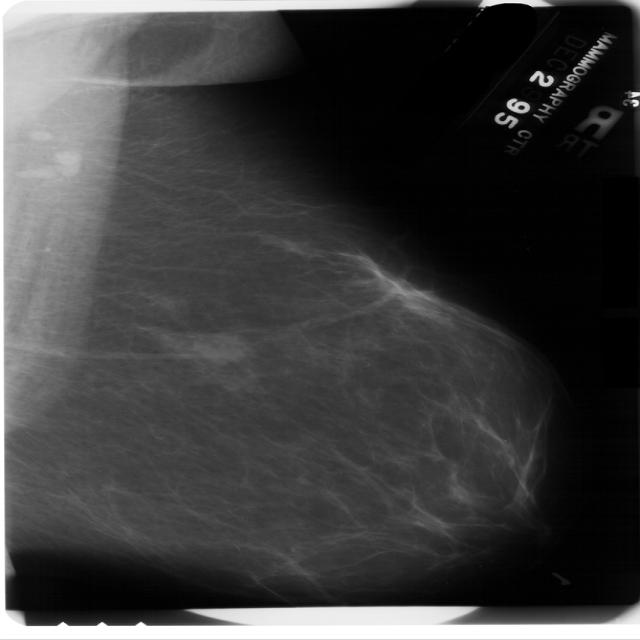tumour: (186, 330, 248, 362)
